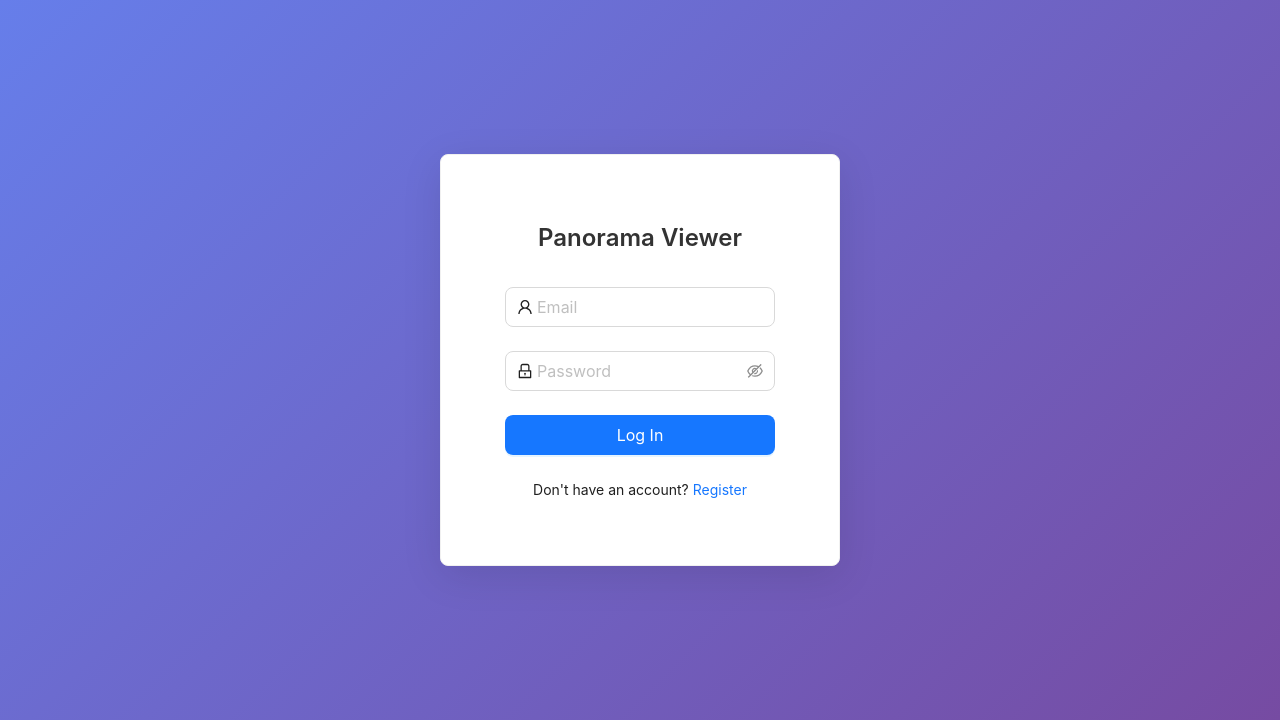
Test: Login Component › should show validation errors for empty fields
The image size is (1280, 720).
Click the button "Log In" at (640, 435), box x1=505 y1=415 x2=775 y2=455
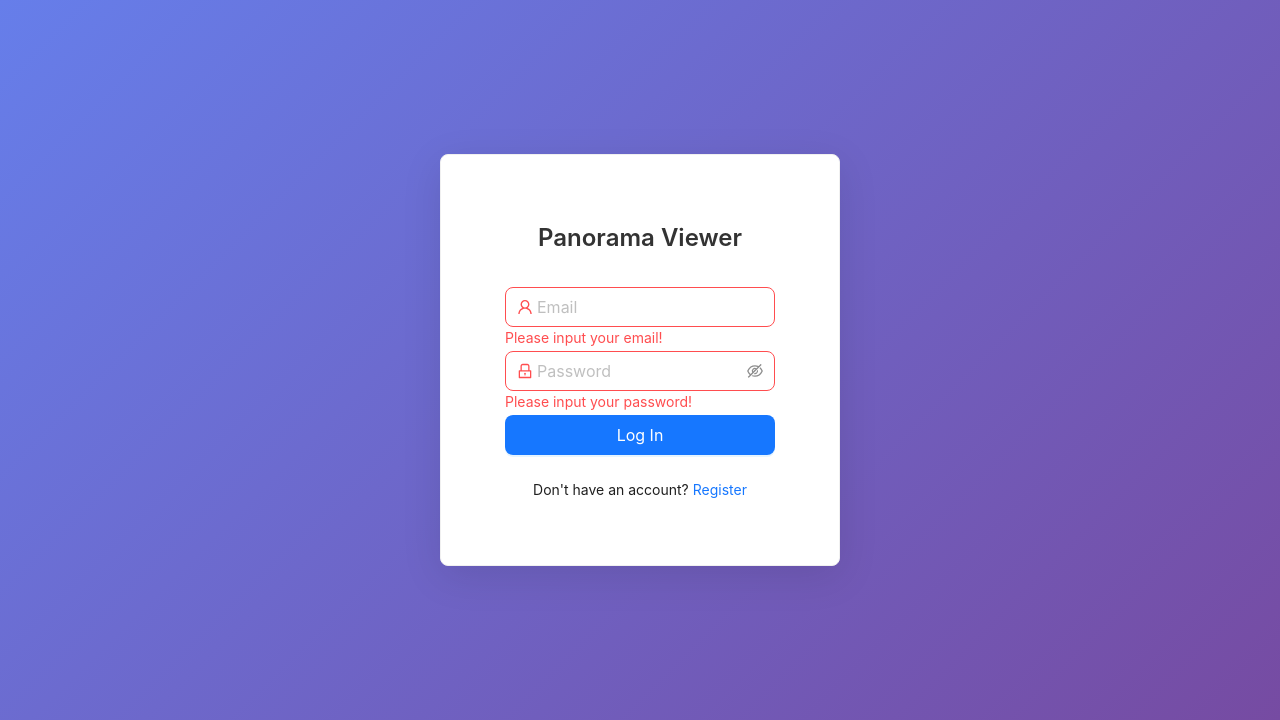
Check: the text "Please input your email!" is shown, box x1=505 y1=329 x2=663 y2=346
Check: the text "Please input your password!" is shown, box x1=505 y1=393 x2=692 y2=410
